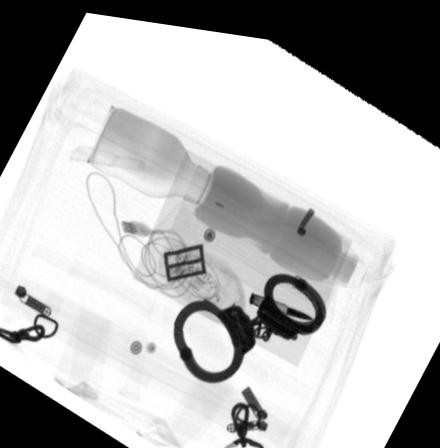Bullet: (249, 284, 313, 309)
HandCuffs: (171, 262, 328, 374)
